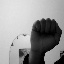a: (29, 17, 62, 52)
